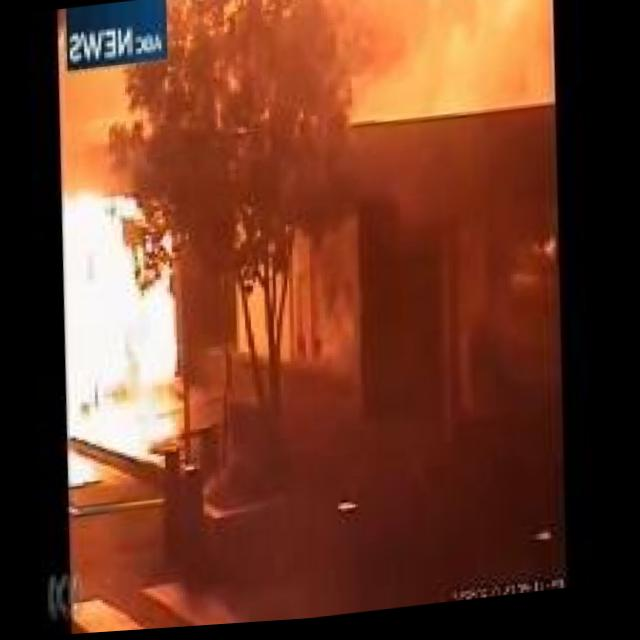fire: (52, 167, 208, 498)
